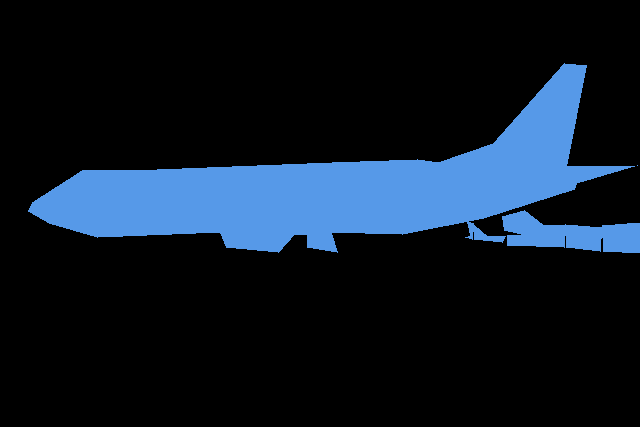Airplane: (28, 63, 638, 252), (465, 210, 640, 254)
